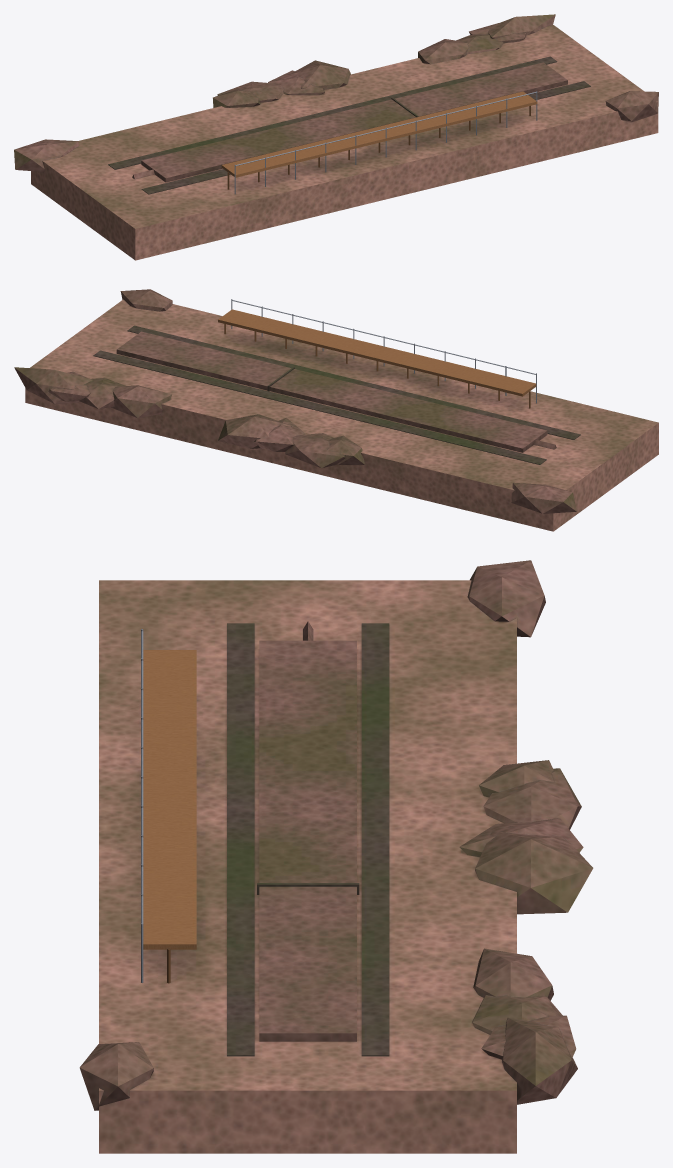
File: obelisk_oavslutad_tex.glb
The picture shows the model from 3 angles, top to bottom: view 1: azimuth 30°, elevation 25°; view 2: azimuth 150°, elevation 25°; view 3: azimuth 270°, elevation 25°; orthographic projection. The views are drawn at different scales.
Parts seen in each view (by area): view 1: obelisk_oavslutad; view 2: obelisk_oavslutad; view 3: obelisk_oavslutad.
Boxes of the visible parts, x1,y1,x2,y2 form: obelisk_oavslutad: (14, 14, 658, 260); obelisk_oavslutad: (14, 289, 658, 531); obelisk_oavslutad: (79, 560, 593, 1153).
Bounding box in the file's own units: 54.61 × 5.8 × 22.13.
6 materials, 5 textured.
